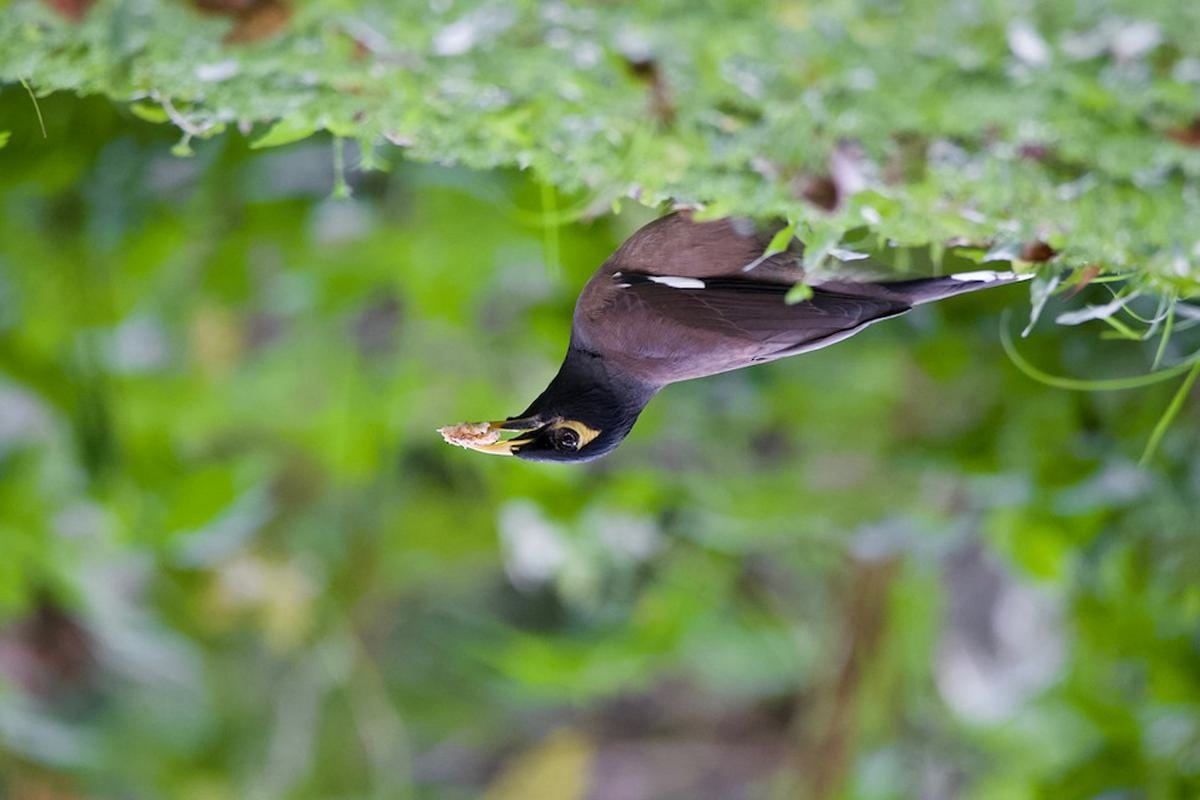myna: (420, 175, 999, 497)
